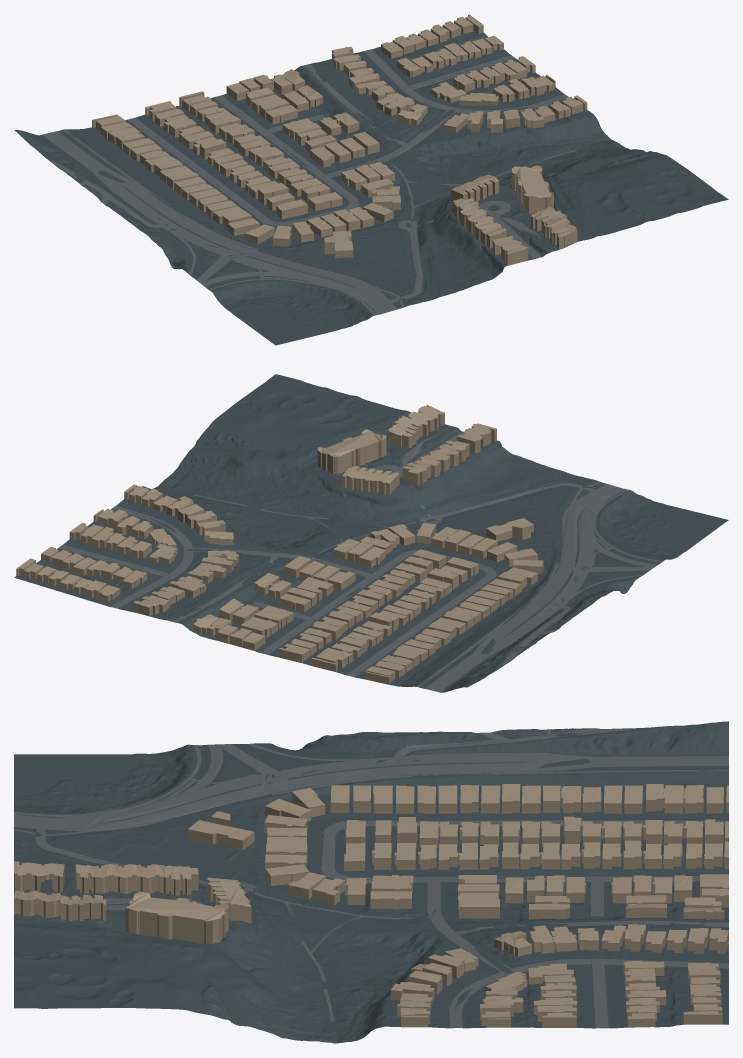
File: epsg26910-1420-10868.lod0.glb
3 views of the same model, one above another, from view 1: azimuth 30°, elevation 25°; view 2: azimuth 150°, elevation 25°; view 3: azimuth 270°, elevation 25° (orthographic). The views are drawn at different scales.
Visible parts, largest first — view 1: epsg26910-1420-10868-lod0; view 2: epsg26910-1420-10868-lod0; view 3: epsg26910-1420-10868-lod0.
Part boxes in pixels (<box>): epsg26910-1420-10868-lod0: <box>14,14,728,345</box>; epsg26910-1420-10868-lod0: <box>14,374,728,692</box>; epsg26910-1420-10868-lod0: <box>14,721,728,1043</box>.
Bounding box in the file's own units: 384 × 35.42 × 384.
